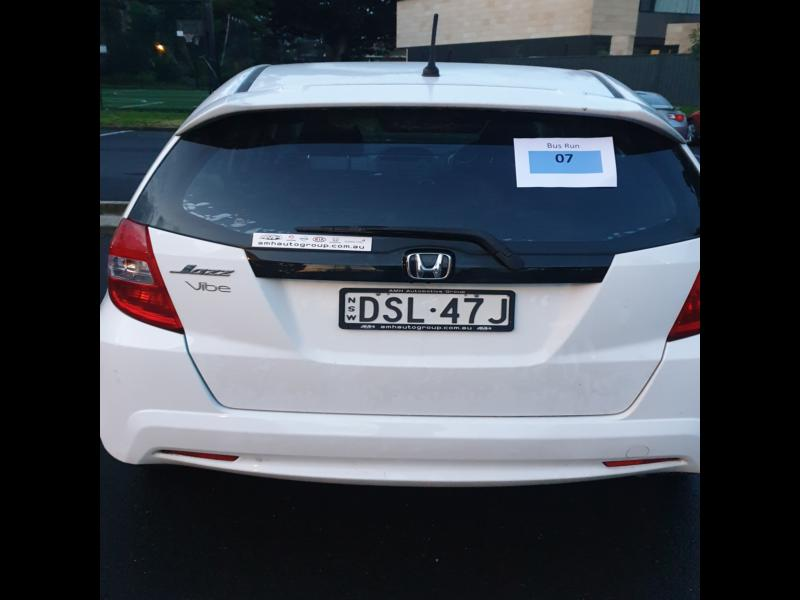BusRun: (529, 149, 605, 170)
PlateNo: (341, 289, 511, 326)
